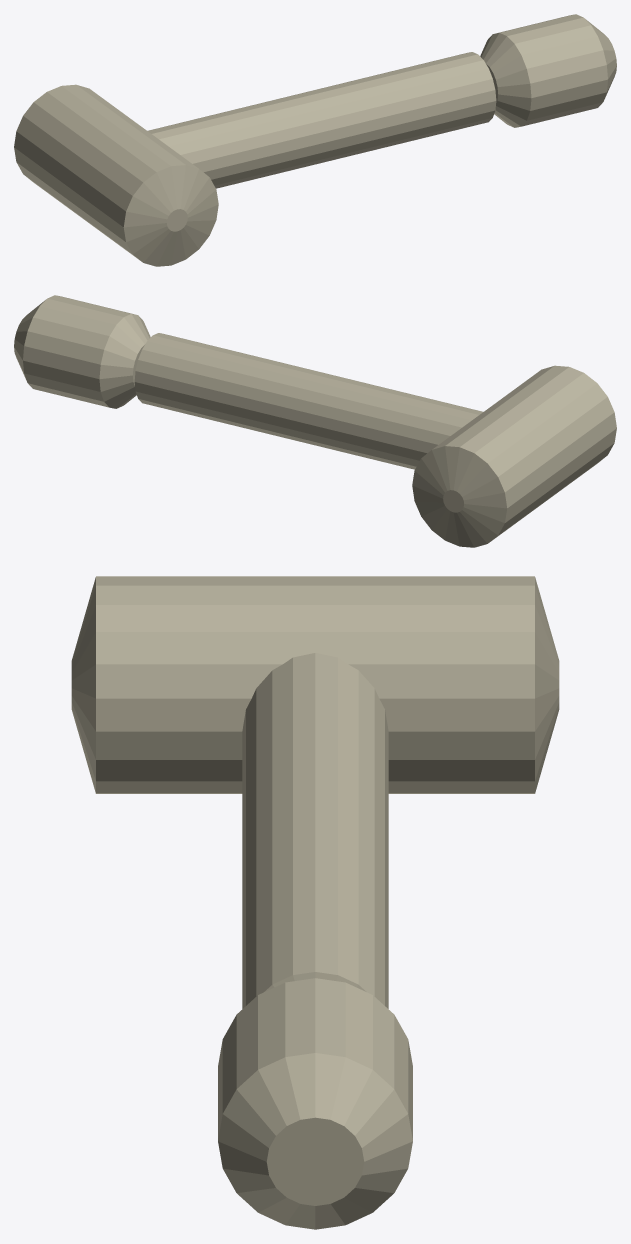
The model's file is handle_link.obj.
The picture shows the model from 3 angles, top to bottom: view 1: azimuth 30°, elevation 25°; view 2: azimuth 150°, elevation 25°; view 3: azimuth 270°, elevation 25°; orthographic projection. The views are drawn at different scales.
Visible parts, largest first — view 1: handle; view 2: handle; view 3: handle.
Part boxes in pixels (x1=…): handle: x1=14, y1=14, x2=616, y2=266; handle: x1=14, y1=295, x2=616, y2=547; handle: x1=71, y1=576, x2=559, y2=1229.
Size of the model in its own units: 0.203 by 0.036 by 0.08.
